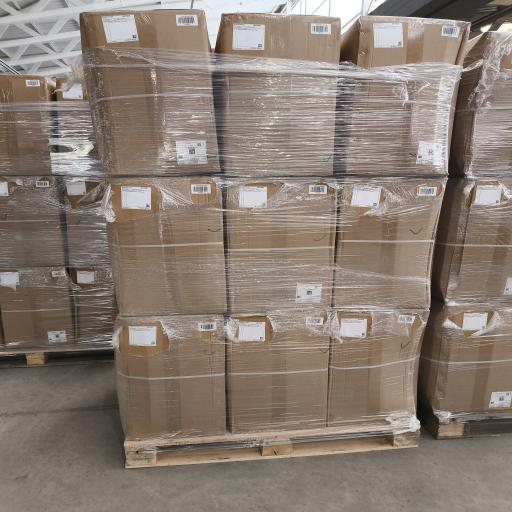pallet: (125, 426, 419, 468), (418, 405, 511, 439), (0, 348, 113, 368)
